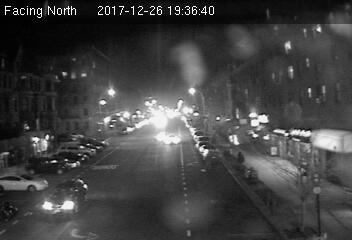car: (37, 180, 89, 216), (161, 133, 182, 146)
